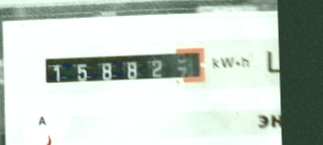1: (49, 62, 59, 80)
2: (148, 57, 161, 77)
5: (71, 61, 86, 80)
7: (172, 63, 185, 75)
8: (122, 57, 136, 79), (98, 59, 111, 79)
screen: (37, 44, 207, 89)
